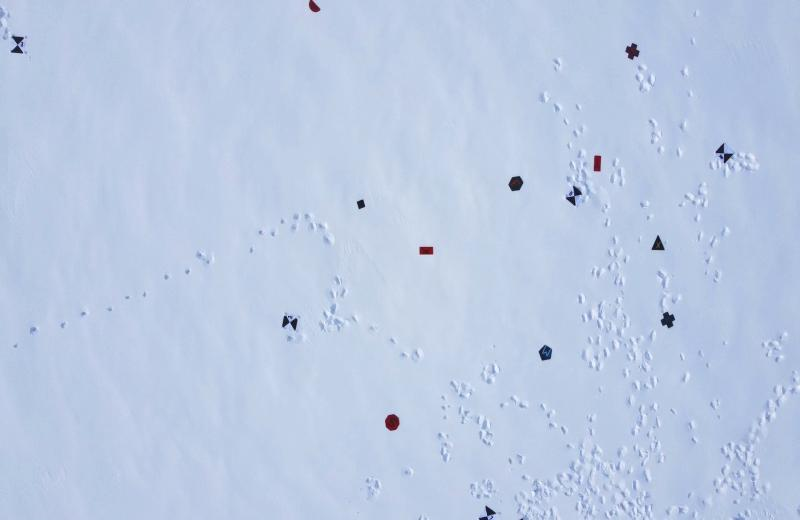Cross: (660, 312, 676, 331), (624, 43, 640, 60)
Hexagon: (508, 174, 524, 193)
Octagon: (383, 412, 401, 433)
Pentagon: (537, 343, 553, 362)
Rectangle: (592, 153, 603, 173), (418, 244, 434, 256)
Semi Circle: (307, 0, 322, 13)
Square: (356, 198, 366, 209)
Triangle: (651, 233, 667, 253)
